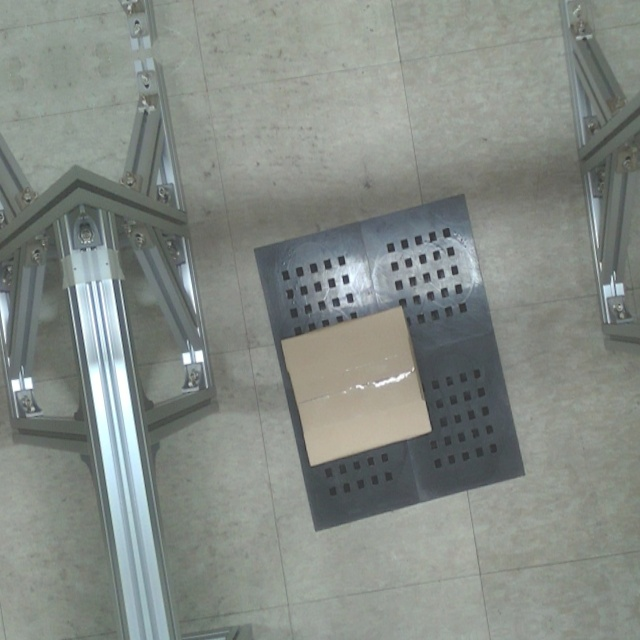box: (281, 305, 435, 471)
pallet: (241, 188, 539, 546)
